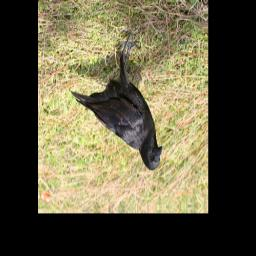Crow: (68, 26, 162, 175)
